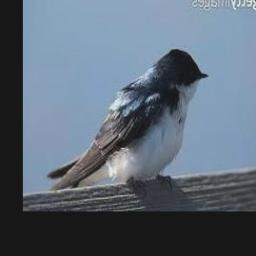Swallow: (47, 49, 208, 192)
